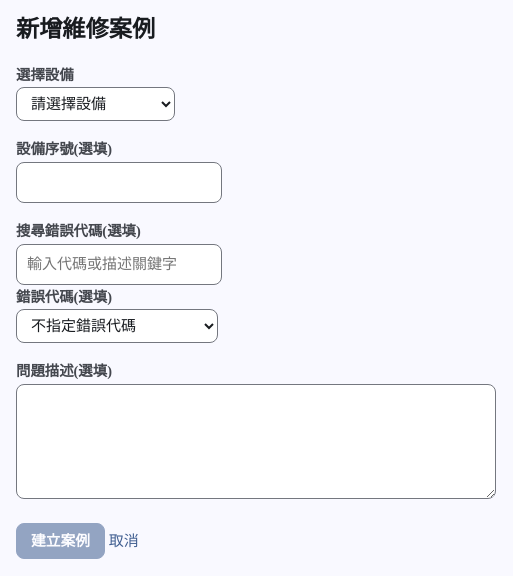
Test case: NewMaintenanceCasePage (E07-S002) › enables the submit button once an equipment option is selected
Select "3 號生產線包裝機" in the dropdown labelled "選擇設備" at (96, 104), box [16,88,175,122]
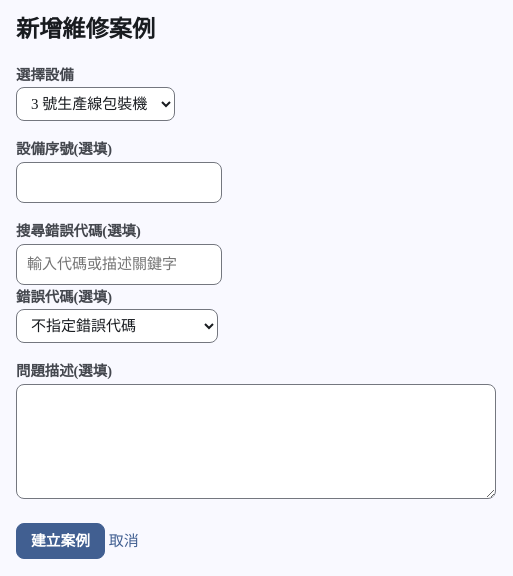
Check: the button "建立案例" is enabled, box [16,523,105,559]
